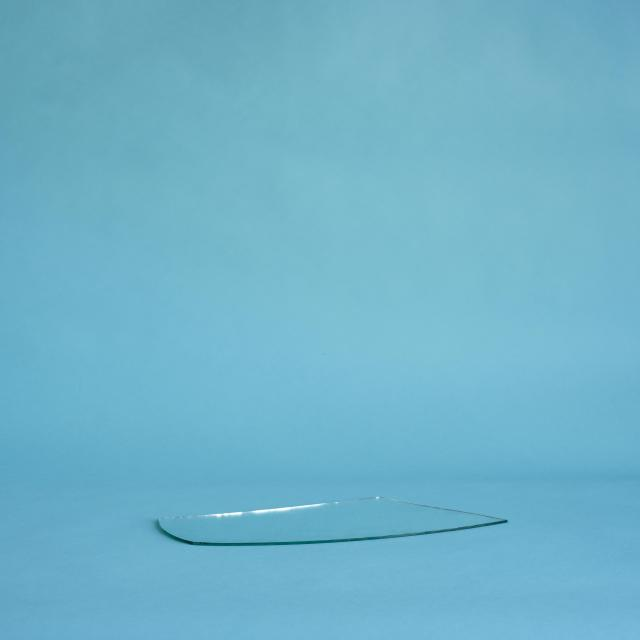electronic: (134, 492, 505, 549)
